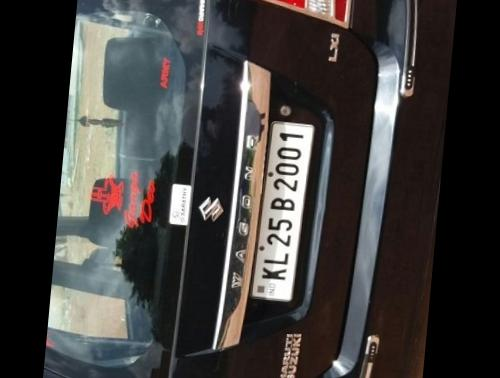plate: (251, 115, 317, 299)
